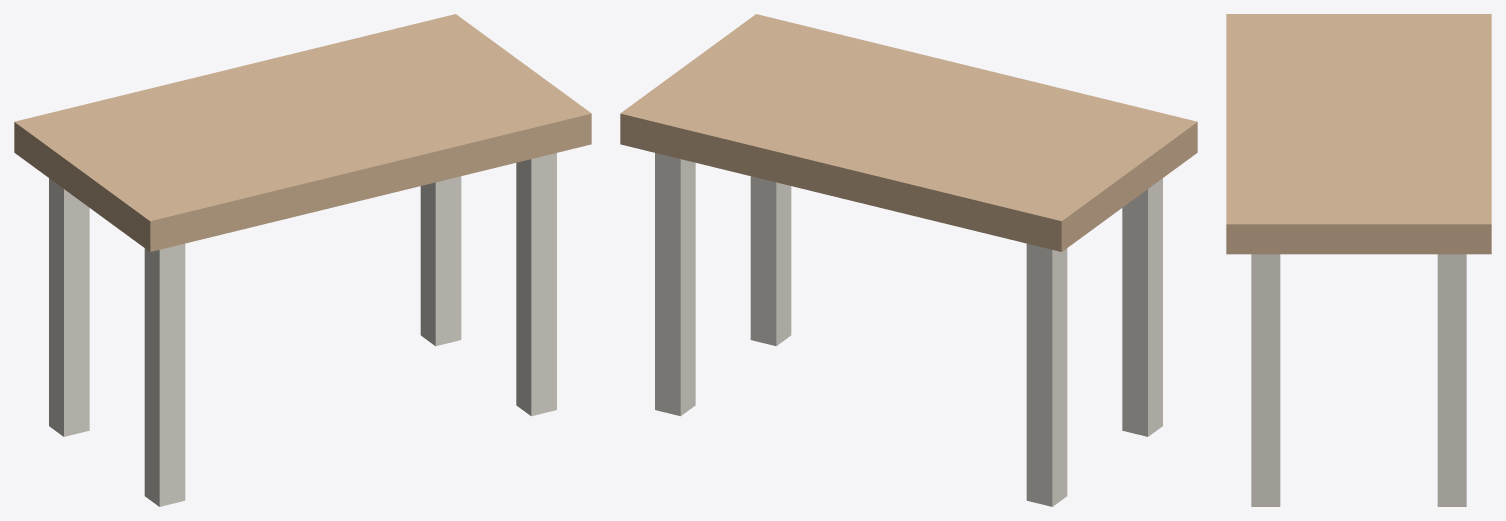
The model's file is table.glb.
3 renders of one model, left to right at view 1: azimuth 30°, elevation 25°; view 2: azimuth 150°, elevation 25°; view 3: azimuth 270°, elevation 25°, orthographic. The views are drawn at different scales.
Visible parts, largest first — view 1: Roomark Demo Table; view 2: Roomark Demo Table; view 3: Roomark Demo Table.
Boxes of the visible parts, x1=… form: Roomark Demo Table: x1=14, y1=14, x2=591, y2=506; Roomark Demo Table: x1=620, y1=14, x2=1197, y2=506; Roomark Demo Table: x1=1226, y1=14, x2=1491, y2=506.
Size of the model in its own units: 1.2 by 0.78 by 0.64.
